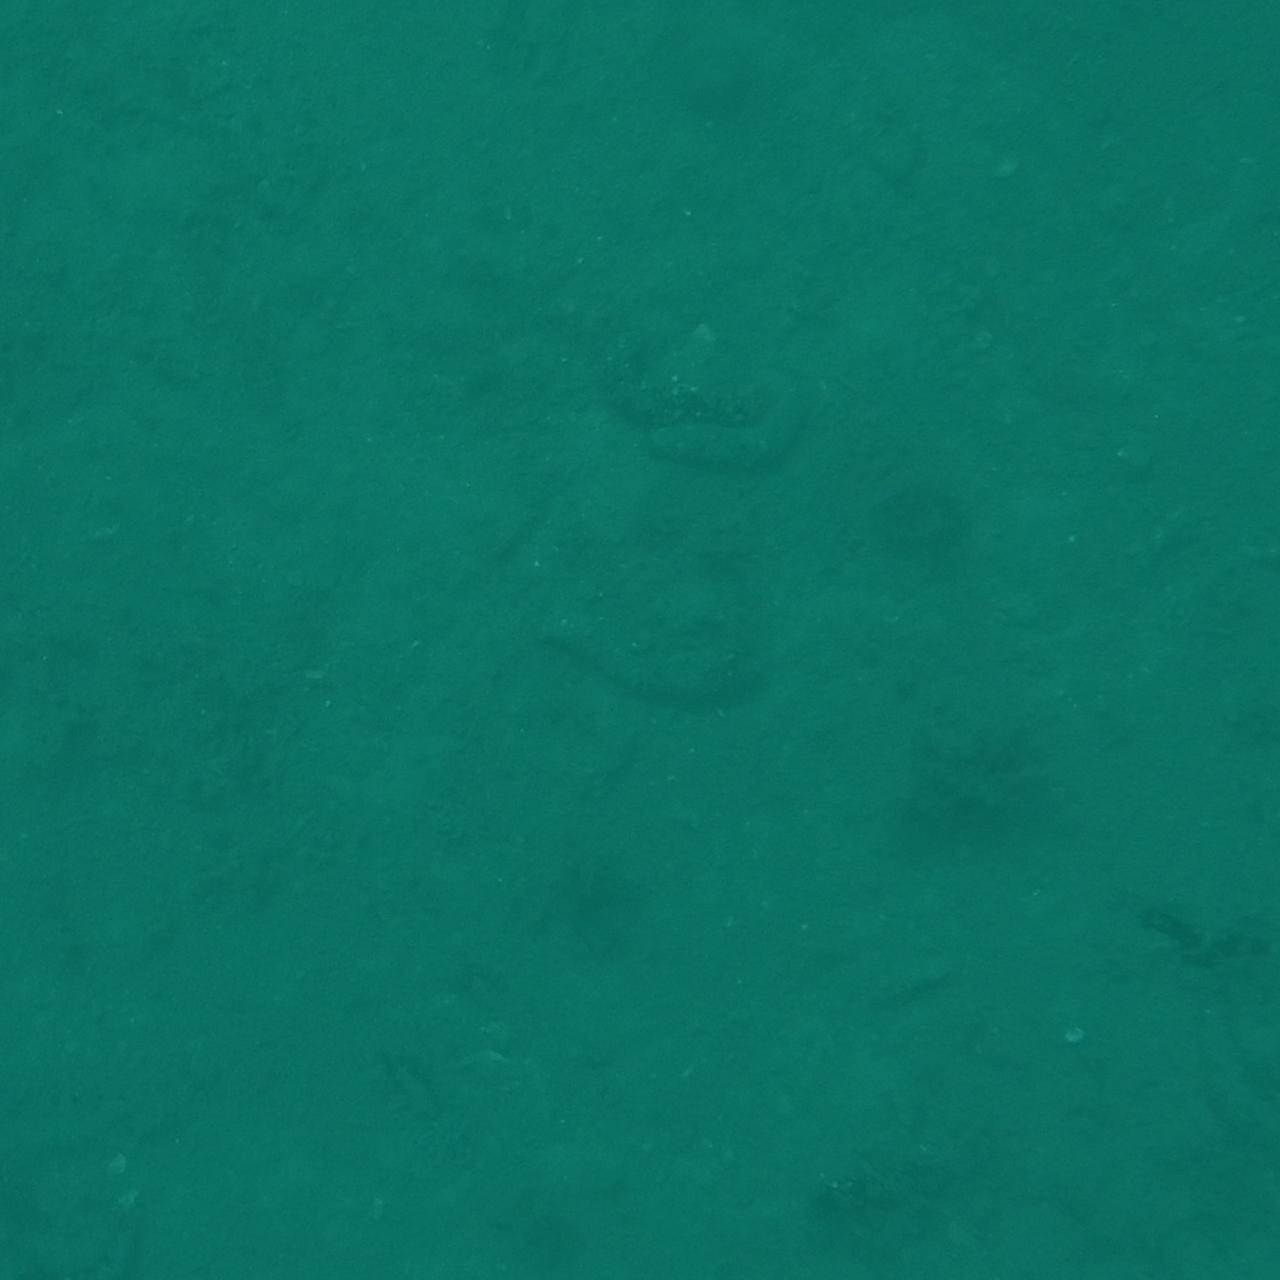Holothuria tubulosa: (1133, 894, 1280, 1196), (628, 280, 826, 496), (538, 586, 783, 733), (0, 155, 118, 428), (0, 612, 137, 818), (1167, 1020, 1280, 1240), (0, 1129, 151, 1280), (0, 0, 166, 116), (0, 779, 89, 990), (311, 1187, 509, 1280), (1160, 598, 1280, 744), (813, 1214, 1039, 1280), (1182, 1139, 1280, 1280), (0, 837, 66, 1041), (491, 1173, 613, 1280), (219, 0, 441, 55), (0, 0, 98, 116), (0, 1101, 59, 1280), (1138, 0, 1280, 60), (1122, 0, 1280, 53), (1131, 0, 1280, 52)
